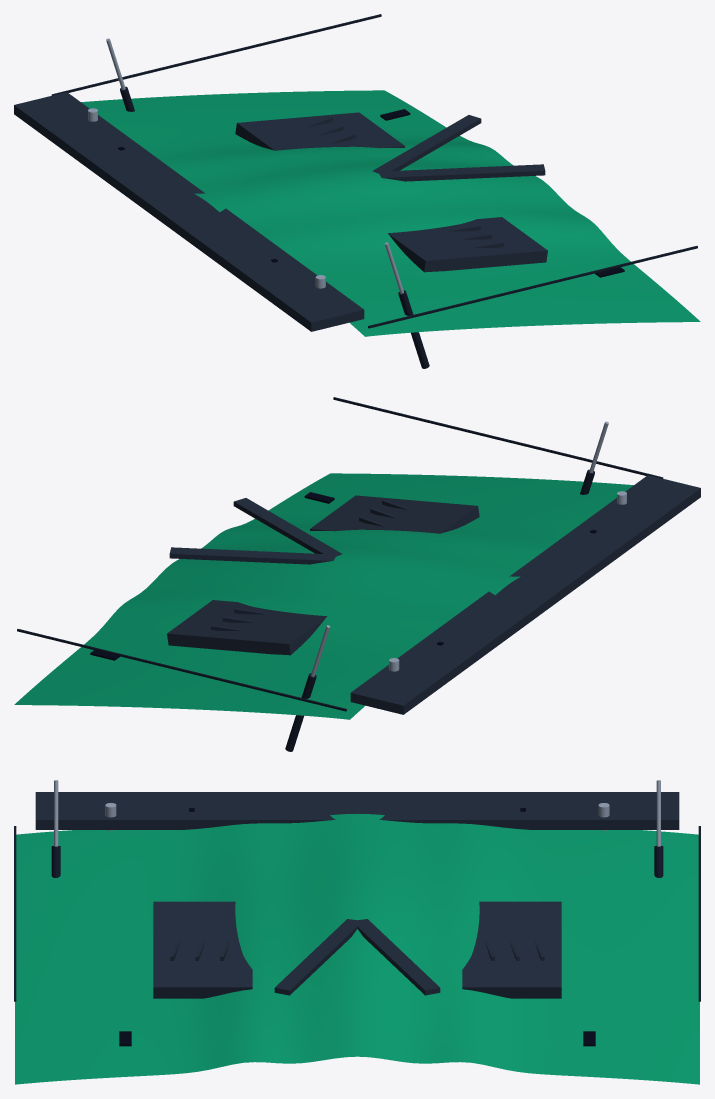
File: ford_escort_rs_cosworth_hood_closed.glb
3 renders of one model, top to bottom at view 1: azimuth 30°, elevation 25°; view 2: azimuth 150°, elevation 25°; view 3: azimuth 270°, elevation 25°, orthographic. The views are drawn at different scales.
Visible parts, largest first — view 1: Block04_ProductionSculptedHood; view 2: Block04_ProductionSculptedHood; view 3: Block04_ProductionSculptedHood.
Boxes of the visible parts, x1,y1,x2,y2 form: Block04_ProductionSculptedHood: (14,14,700,368); Block04_ProductionSculptedHood: (14,397,700,751); Block04_ProductionSculptedHood: (14,780,700,1084).
Size of the model in its own units: 0.86 by 0.2968 by 1.24.
